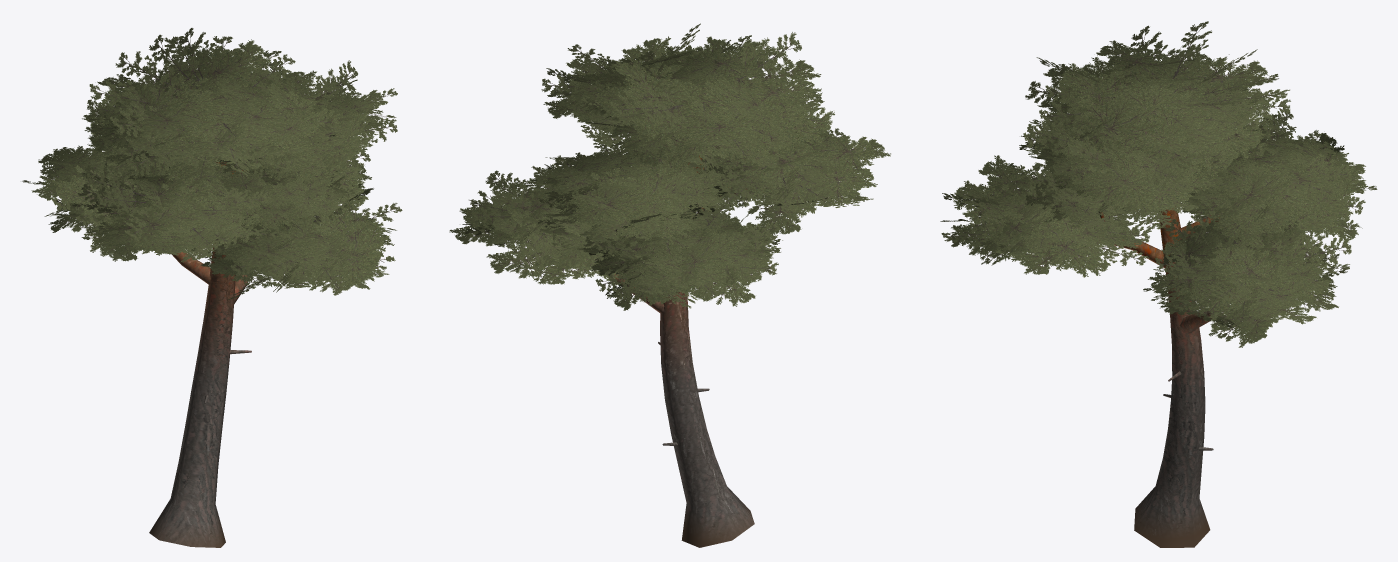
Rendered from BG_Pine.fbx.
3 renders of one model, left to right at view 1: azimuth 30°, elevation 25°; view 2: azimuth 150°, elevation 25°; view 3: azimuth 270°, elevation 25°, orthographic. The views are drawn at different scales.
Parts seen in each view (by area): view 1: BG_Pine; view 2: BG_Pine; view 3: BG_Pine.
Part boxes in pixels (x1=…): BG_Pine: x1=22, y1=28, x2=402, y2=547; BG_Pine: x1=449, y1=23, x2=890, y2=547; BG_Pine: x1=940, y1=21, x2=1377, y2=547.
Size of the model in its own units: 4.62 by 5.82 by 4.9.
Materials: 1 (1 with a texture image).
